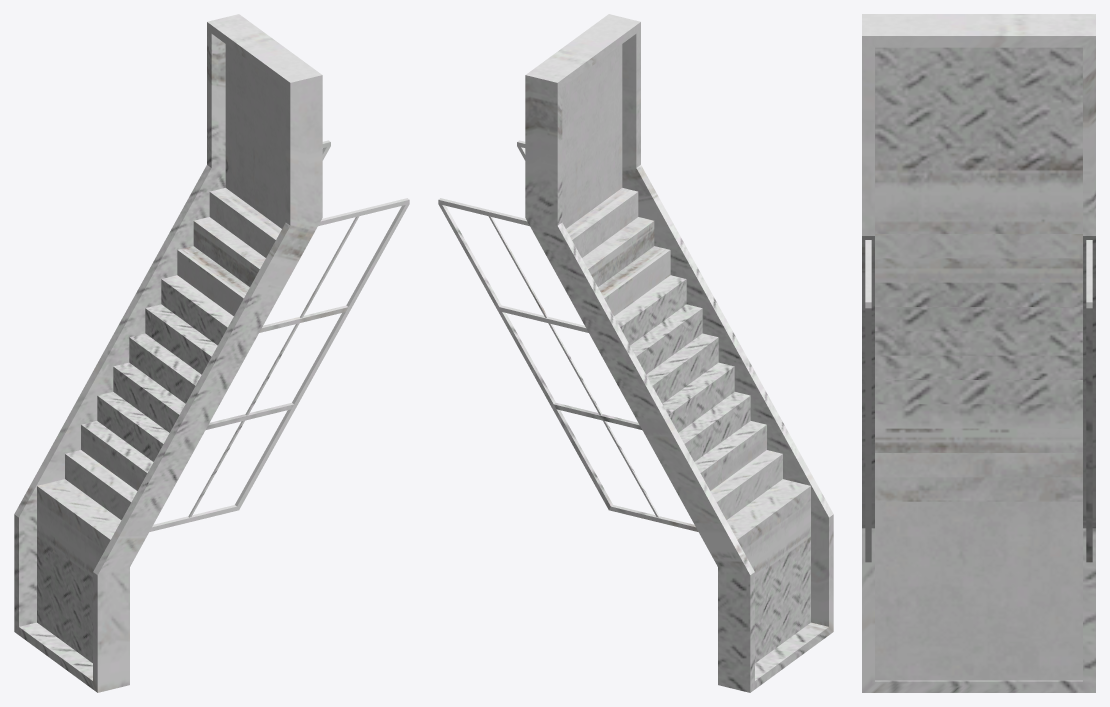
The model's file is M_StairSystem_02_spec.dae.
3 views of the same model, side by side, from view 1: azimuth 30°, elevation 25°; view 2: azimuth 150°, elevation 25°; view 3: azimuth 270°, elevation 25° (orthographic). The views are drawn at different scales.
Parts seen in each view (by area): view 1: S_StairSystem_02a.002; view 2: S_StairSystem_02a.002; view 3: S_StairSystem_02a.002.
Boxes of the visible parts, x1,y1,x2,y2 form: S_StairSystem_02a.002: [14, 14, 409, 692]; S_StairSystem_02a.002: [438, 14, 833, 692]; S_StairSystem_02a.002: [862, 14, 1095, 692].
Size of the model in its own units: 3.12 by 1.44 by 5.36.
